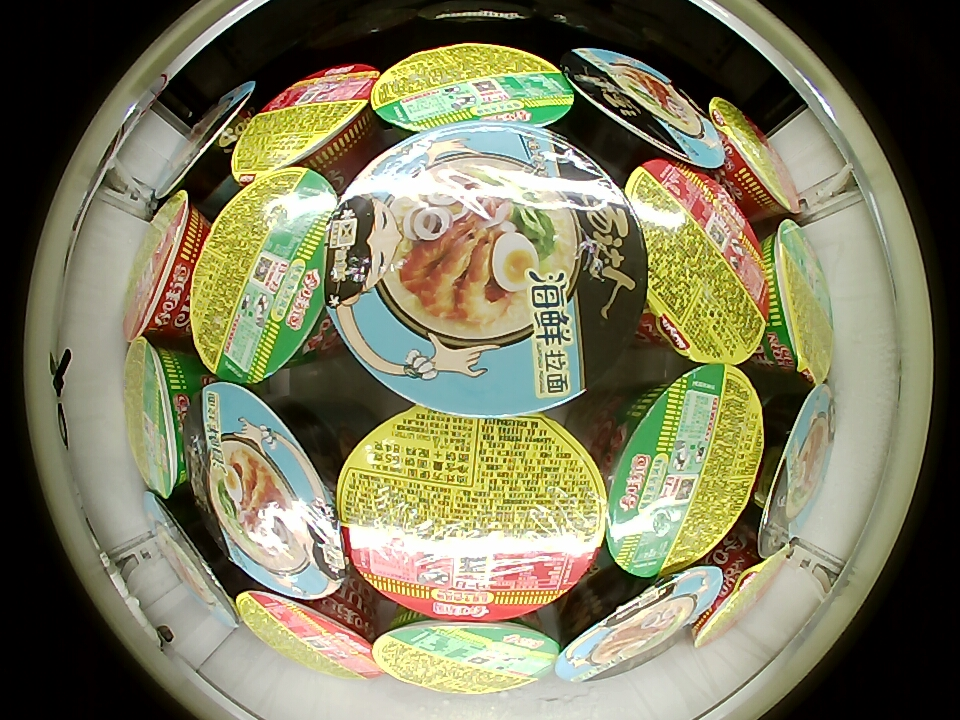heweidao2: (604, 364, 765, 579), (189, 167, 339, 384), (371, 43, 574, 134), (371, 614, 559, 695), (761, 218, 834, 386), (124, 337, 197, 497)
heweidao3: (338, 407, 606, 623), (625, 154, 770, 367), (231, 62, 378, 183), (237, 587, 380, 681), (124, 191, 208, 341), (707, 98, 801, 219), (694, 534, 790, 648)
tangdaren3: (324, 123, 647, 417), (186, 382, 350, 600), (562, 47, 725, 169), (554, 567, 722, 684), (142, 488, 248, 633), (750, 382, 837, 558), (155, 82, 259, 205)
